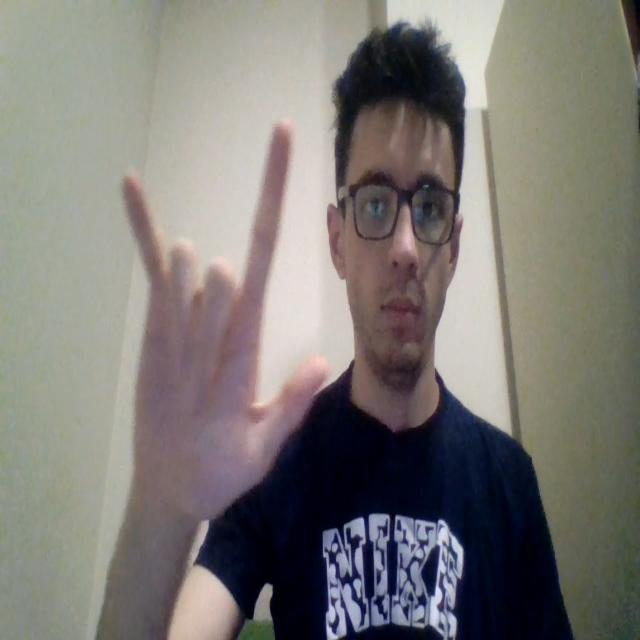iloveyou: (119, 118, 330, 527)
